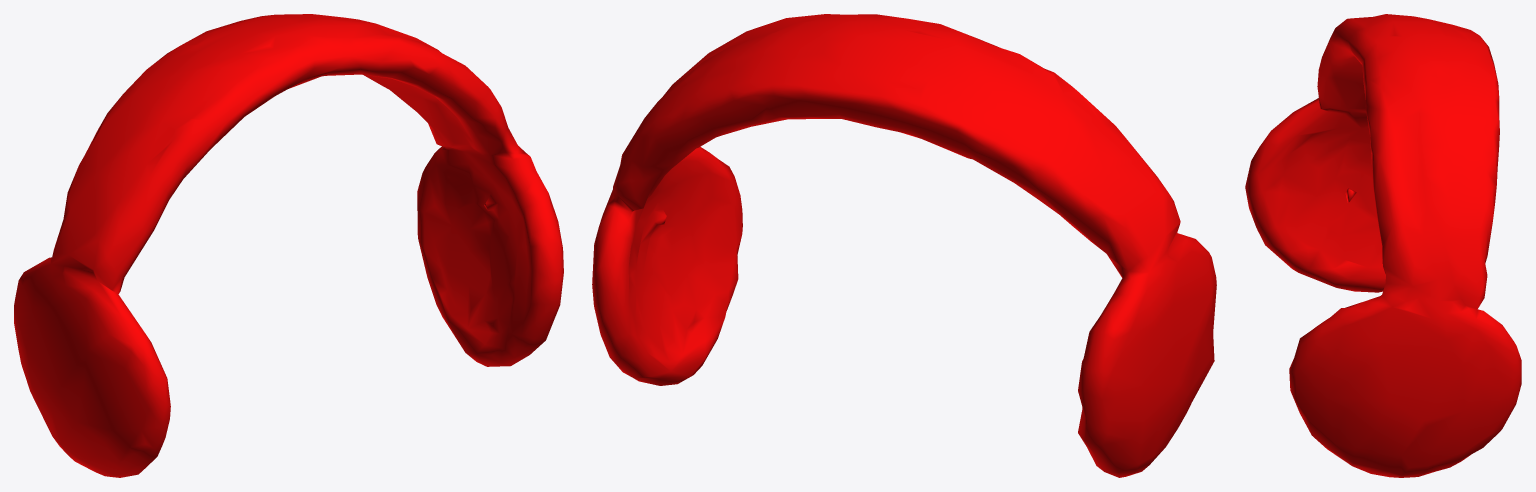
The model's file is red headphones.glb.
3 views of the same model, side by side, from view 1: azimuth 30°, elevation 25°; view 2: azimuth 150°, elevation 25°; view 3: azimuth 270°, elevation 25° (orthographic). The views are drawn at different scales.
Visible parts, largest first — view 1: headphones_red.001; view 2: headphones_red.001; view 3: headphones_red.001.
Part boxes in pixels (x1,y1,x2,y2): headphones_red.001: (14, 14, 563, 477); headphones_red.001: (592, 14, 1216, 477); headphones_red.001: (1245, 14, 1521, 477).
Size of the model in its own units: 0.3823 by 0.2791 by 0.2018.
1 material, 1 textured.
